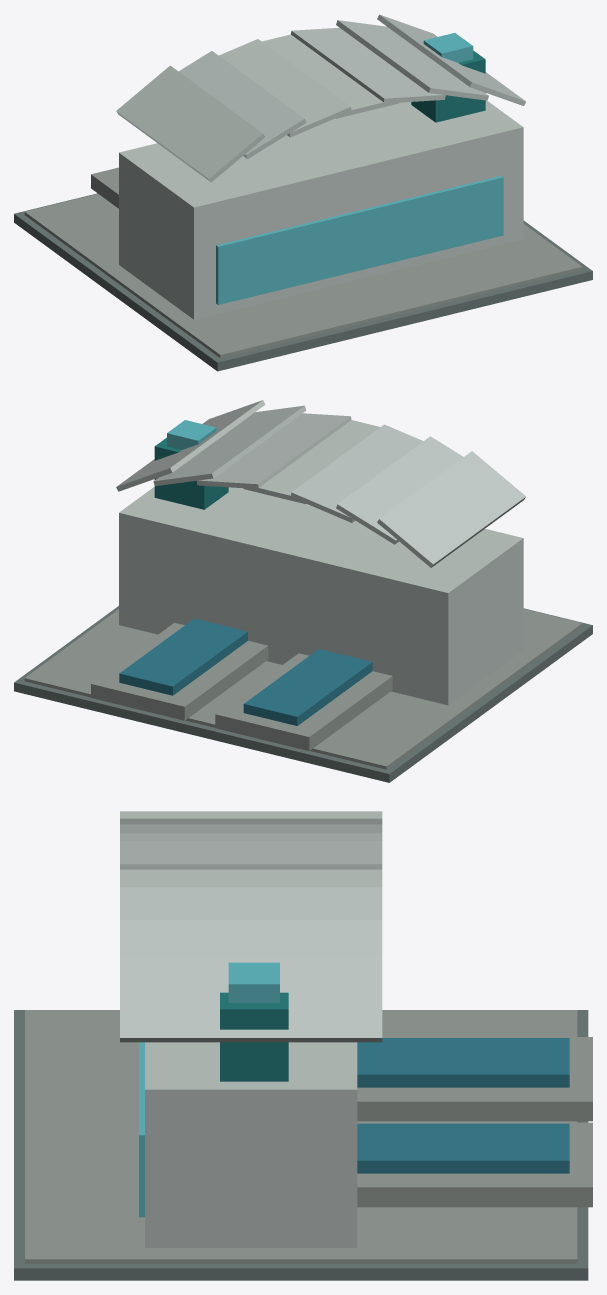
Rendered from airport_terminal_lv1.glb.
3 views of the same model, one above another, from view 1: azimuth 30°, elevation 25°; view 2: azimuth 150°, elevation 25°; view 3: azimuth 270°, elevation 25° (orthographic). The views are drawn at different scales.
Parts seen in each view (by area): view 1: rough, glossy; view 2: rough, glossy; view 3: rough, glossy.
Part boxes in pixels (x1,y1,x2,y2): rough: (14, 14, 592, 371); glossy: (216, 33, 503, 304); rough: (14, 400, 592, 782); glossy: (119, 420, 372, 725); rough: (14, 811, 592, 1280); glossy: (139, 962, 569, 1217).
Size of the model in its own units: 9.8 by 4.87 by 9.27.
